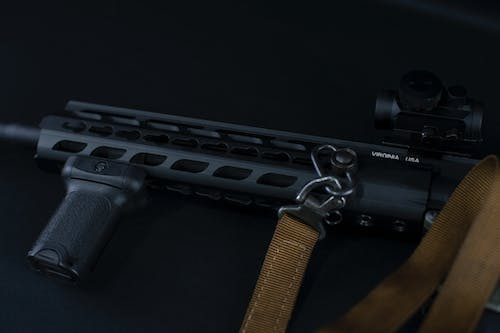gun: (0, 65, 500, 316)
